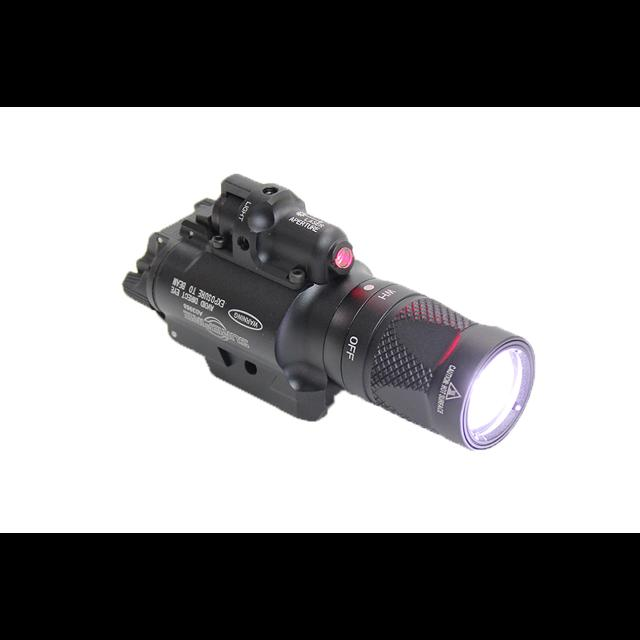Flashlight: (114, 168, 542, 458)
